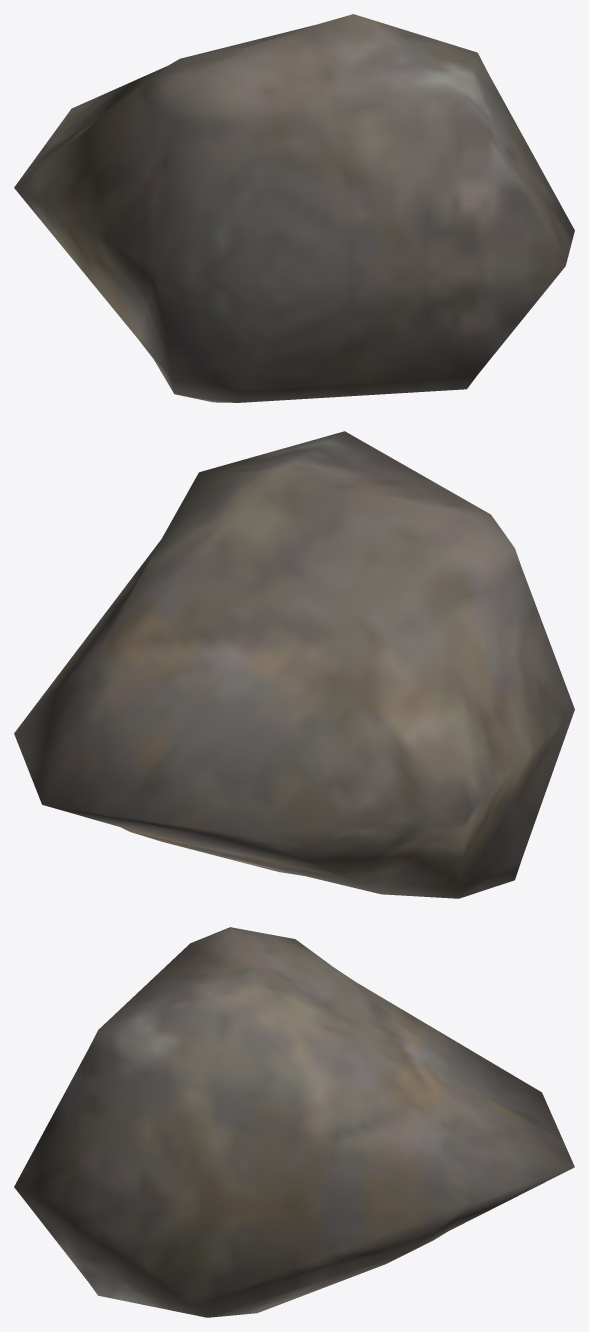
File: detail_mesh_1.fbx
3 views of the same model, one above another, from view 1: azimuth 30°, elevation 25°; view 2: azimuth 150°, elevation 25°; view 3: azimuth 270°, elevation 25° (orthographic). The views are drawn at different scales.
Parts seen in each view (by area): view 1: envPrfRock_detailstoneB_jungle_detail; view 2: envPrfRock_detailstoneB_jungle_detail; view 3: envPrfRock_detailstoneB_jungle_detail.
Part boxes in pixels (<box>): envPrfRock_detailstoneB_jungle_detail: <box>14,14,574,402</box>; envPrfRock_detailstoneB_jungle_detail: <box>14,431,574,898</box>; envPrfRock_detailstoneB_jungle_detail: <box>14,927,574,1317</box>.
Size of the model in its own units: 1.23 by 1.1 by 1.71.
